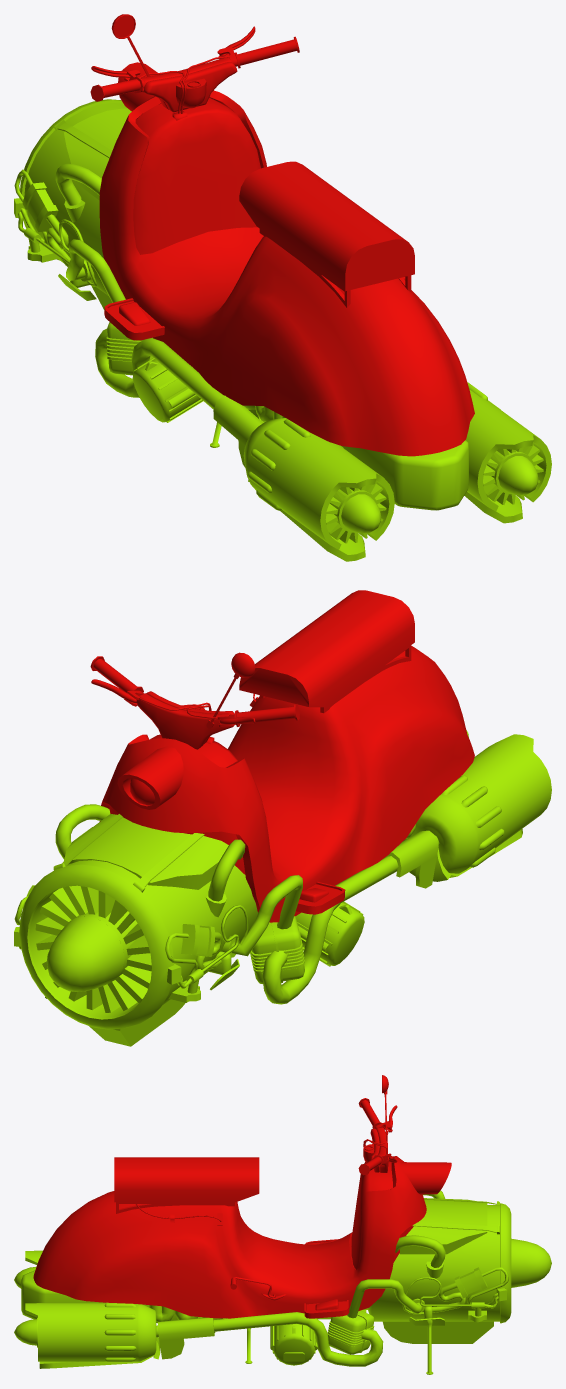
File: Hoverbike.fbx
The picture shows the model from 3 angles, top to bottom: view 1: azimuth 30°, elevation 25°; view 2: azimuth 150°, elevation 25°; view 3: azimuth 270°, elevation 25°; orthographic projection. The views are drawn at different scales.
Visible parts, largest first — view 1: seat_low.001, seat_low.002; view 2: seat_low.001, seat_low.002; view 3: seat_low.001, seat_low.002.
Part boxes in pixels (x1,y1,x2,y2): seat_low.001: (90, 14, 474, 456); seat_low.002: (14, 99, 551, 561); seat_low.001: (90, 590, 474, 922); seat_low.002: (14, 730, 551, 1046); seat_low.001: (33, 1075, 451, 1318); seat_low.002: (14, 1190, 551, 1374).
Bounding box in the file's own units: 78.44 × 113 × 225.
